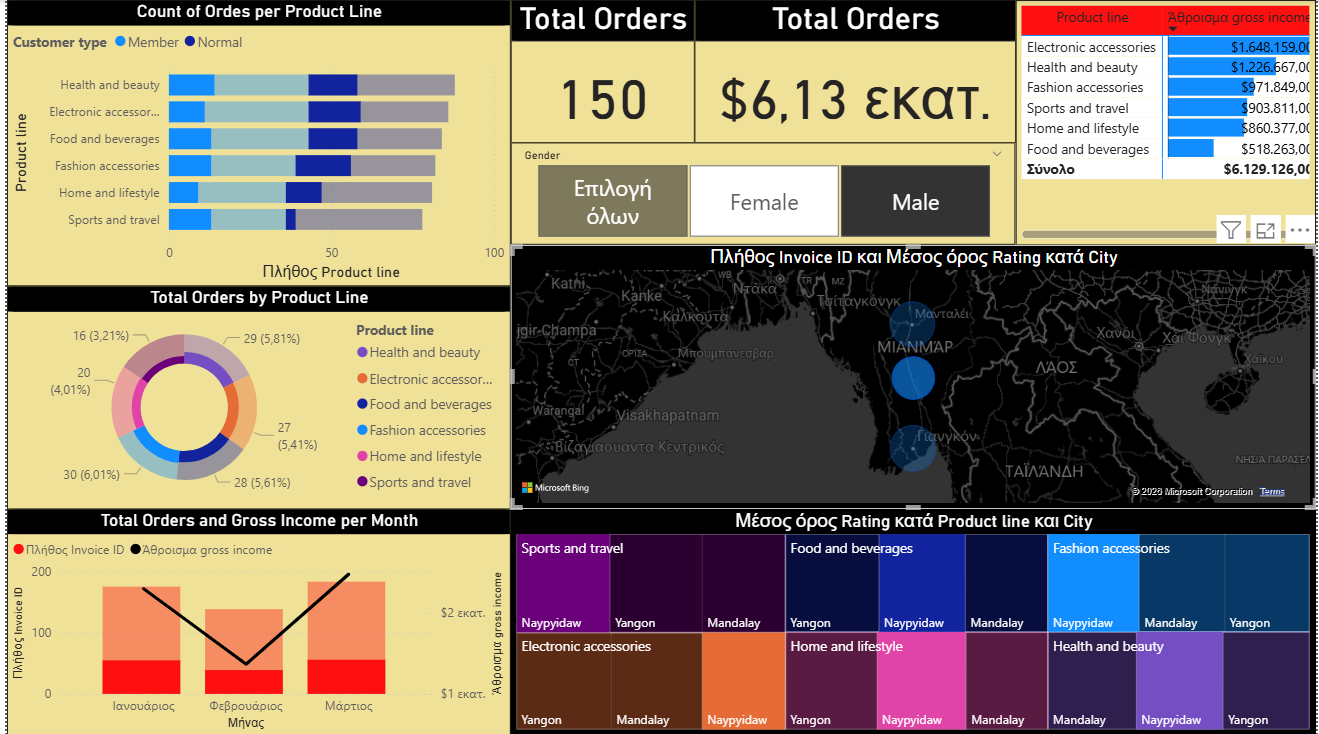

Layout of this report page (visuals, bound fields, positions):
{"tool":"powerbi","page":{"name":"Σελίδα 1","canvas":[1280,720],"ordinal":0},"visuals":[{"type":"barChart","title":"Count of Ordes per Product Line","fields":{"Series":["supermarket sales.Customer type"],"Category":["supermarket sales.Product line"],"Y":["CountNonNull(supermarket sales.Product line)"]},"box":[0,0,492.6,279.9],"z":0},{"type":"card","title":"Total Orders","fields":{"Values":["Count(supermarket sales.Invoice ID)"]},"box":[492.6,0,179.8,140],"z":1000},{"type":"card","title":"Total Orders","fields":{"Values":["Sum(supermarket sales.gross income)"]},"box":[672.4,0,314.2,140],"z":2000},{"type":"slicer","fields":{"Values":["supermarket sales.Gender"]},"box":[492.6,140,494,100.2],"z":3000},{"type":"donutChart","title":"Total Orders by Product Line","fields":{"Y":["CountNonNull(supermarket sales.Invoice ID)"],"Category":["supermarket sales.Product line"]},"box":[0,279.9,492.6,218.2],"z":4000},{"type":"lineClusteredColumnComboChart","title":"Total Orders and Gross Income per Month","fields":{"Category":["supermarket sales.Date.Παραλλαγή.Ιεραρχία ημερομηνιών.Μήνας","supermarket sales.Date.Παραλλαγή.Ιεραρχία ημερομηνιών.Ημέρα"],"Y":["CountNonNull(supermarket sales.Invoice ID)"],"Y2":["Sum(supermarket sales.gross income)"]},"box":[0,498.1,492.6,222.3],"z":5000},{"type":"pivotTable","fields":{"Values":["Sum(supermarket sales.gross income)"],"Rows":["supermarket sales.Product line"]},"box":[986.6,0,293.7,240.1],"z":6000},{"type":"treemap","fields":{"Group":["supermarket sales.Product line"],"Values":["Avg(supermarket sales.Rating)"],"Details":["supermarket sales.City"]},"box":[492.6,498.1,787.7,222.3],"z":7000},{"type":"map","fields":{"Category":["supermarket sales.City"],"Size":["CountNonNull(supermarket sales.Invoice ID)"]},"box":[492.6,240.1,787.7,258],"z":8000}]}

Visuals, with their boxes in screenshot pixels (x1, y1, x2, y2), scaled from the page's 1280x720 canvas onto the 1319x734 screenshot:
"Count of Ordes per Product Line" barChart: {"x1": 0, "y1": 0, "x2": 508, "y2": 285}
"Total Orders" card: {"x1": 508, "y1": 0, "x2": 693, "y2": 143}
"Total Orders" card: {"x1": 693, "y1": 0, "x2": 1017, "y2": 143}
slicer - supermarket sales.Gender: {"x1": 508, "y1": 143, "x2": 1017, "y2": 245}
"Total Orders by Product Line" donutChart: {"x1": 0, "y1": 285, "x2": 508, "y2": 508}
"Total Orders and Gross Income per Month" lineClusteredColumnComboChart: {"x1": 0, "y1": 508, "x2": 508, "y2": 733}
pivotTable - Sum(supermarket sales.gross income) x supermarket sales.Product line: {"x1": 1017, "y1": 0, "x2": 1318, "y2": 245}
treemap - supermarket sales.Product line x Avg(supermarket sales.Rating): {"x1": 508, "y1": 508, "x2": 1318, "y2": 733}
map - supermarket sales.City x CountNonNull(supermarket sales.Invoice ID): {"x1": 508, "y1": 245, "x2": 1318, "y2": 508}
